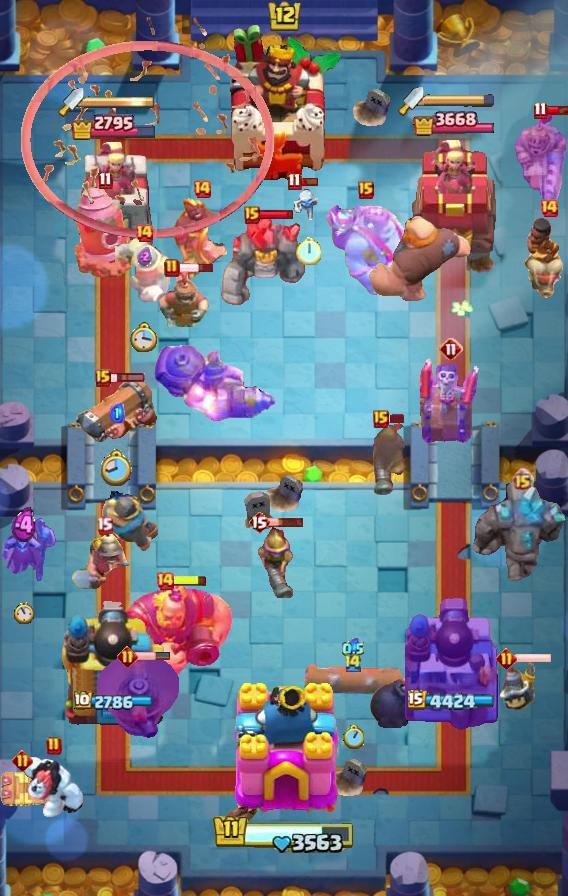baby-dragon: (369, 657, 429, 729)
balloon: (368, 213, 472, 305)
bandit: (70, 526, 138, 592)
bar: (409, 138, 497, 256), (73, 140, 155, 256)
battle-healer: (73, 377, 161, 449)
bomb-tower: (256, 524, 298, 598), (371, 419, 409, 497)
cannoneer-tower: (470, 483, 568, 585), (220, 212, 306, 308)
clock: (212, 814, 356, 856)
dark-prince: (95, 655, 185, 741)
earthquake: (158, 266, 210, 328)
electro-spirit: (11, 508, 38, 545), (342, 638, 364, 660), (110, 403, 125, 423), (137, 246, 151, 265)
elite-barbarian: (524, 218, 568, 300)
elixir: (101, 448, 133, 487), (130, 322, 158, 352), (295, 236, 320, 265), (343, 725, 364, 749), (14, 602, 34, 624)
emote: (172, 573, 208, 586), (177, 262, 214, 274), (109, 372, 146, 384), (267, 516, 304, 528), (516, 652, 553, 664), (257, 208, 294, 219), (135, 651, 171, 661), (544, 104, 567, 116), (299, 176, 319, 188), (386, 413, 406, 424)
firecracker: (114, 238, 173, 304), (100, 491, 158, 552)
freeze: (172, 197, 232, 283)
goblin-brawler: (0, 768, 48, 810)
heal-spirit: (291, 181, 325, 225)
king-tower: (224, 23, 344, 181), (222, 680, 346, 826)
king-tower-bar: (424, 93, 496, 107), (84, 95, 156, 109)
lava-hound: (325, 202, 407, 298)
lightning: (121, 584, 234, 680)
magic-archer: (72, 183, 138, 281)
minion: (302, 661, 404, 701)
princess: (497, 660, 539, 714)
rage: (21, 755, 87, 819)
ram-rider: (510, 108, 568, 208)
rascal-boy: (0, 514, 58, 584)
selected: (414, 108, 495, 140), (70, 112, 158, 140), (409, 690, 500, 714), (73, 691, 154, 713)
skeleton-barrel: (21, 16, 274, 239)
skeleton-king-bar: (420, 354, 482, 444)
text: (439, 337, 463, 361), (510, 468, 533, 491), (248, 510, 270, 534), (495, 647, 517, 669), (117, 645, 138, 667), (11, 749, 32, 770), (343, 651, 363, 672), (192, 179, 212, 199), (539, 198, 559, 218), (134, 223, 154, 243), (155, 571, 175, 591), (96, 517, 113, 536), (164, 258, 180, 278), (46, 736, 62, 756), (358, 181, 374, 199), (244, 206, 260, 224), (95, 369, 111, 387), (373, 410, 389, 428), (532, 101, 547, 119), (99, 171, 114, 189), (287, 173, 302, 191)
tower-bar: (58, 595, 170, 731), (405, 595, 501, 731)
wizard: (153, 344, 277, 422)
